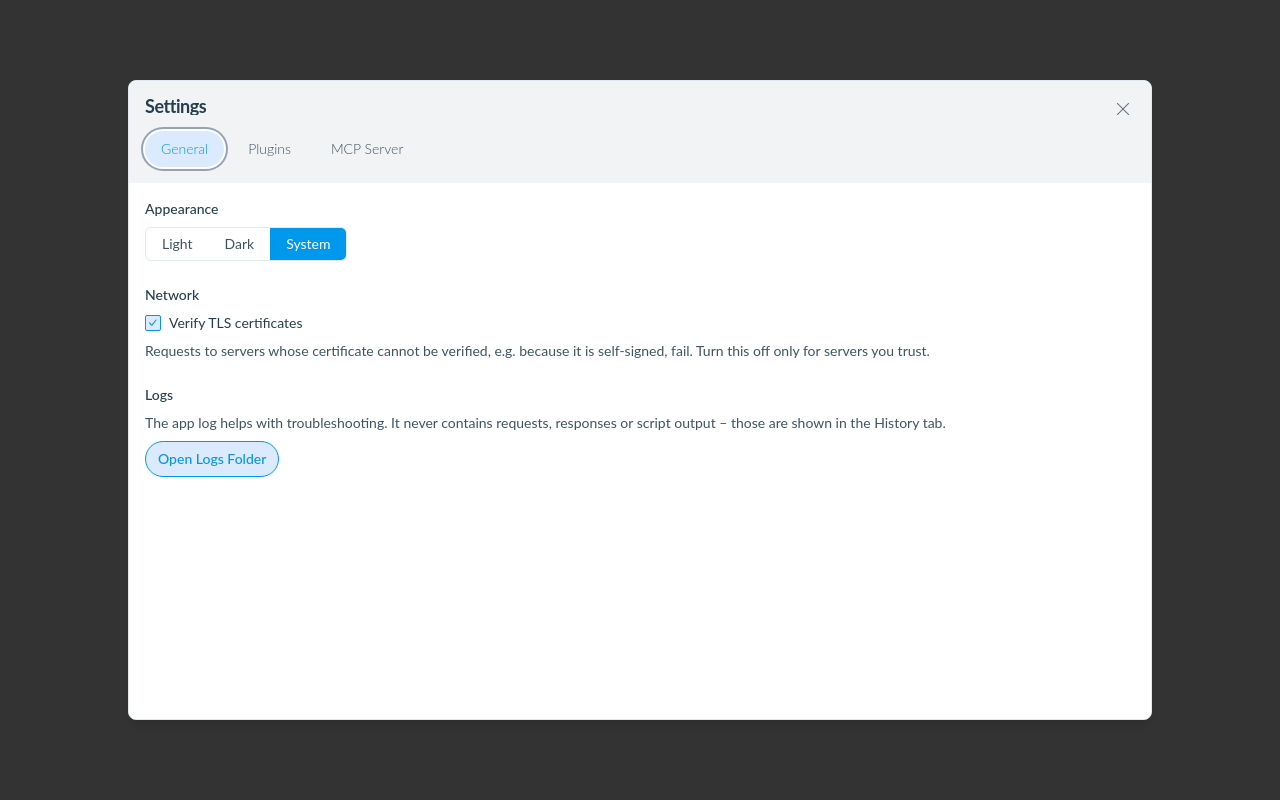
Scenario: AppSettingsModal › shows the plugins on their own tab
The image size is (1280, 800).
What coordinates should you click on to do the following:
click the tab "Plugins"
I would click on:
 (270, 149)
Its box is [232,131,307,167].
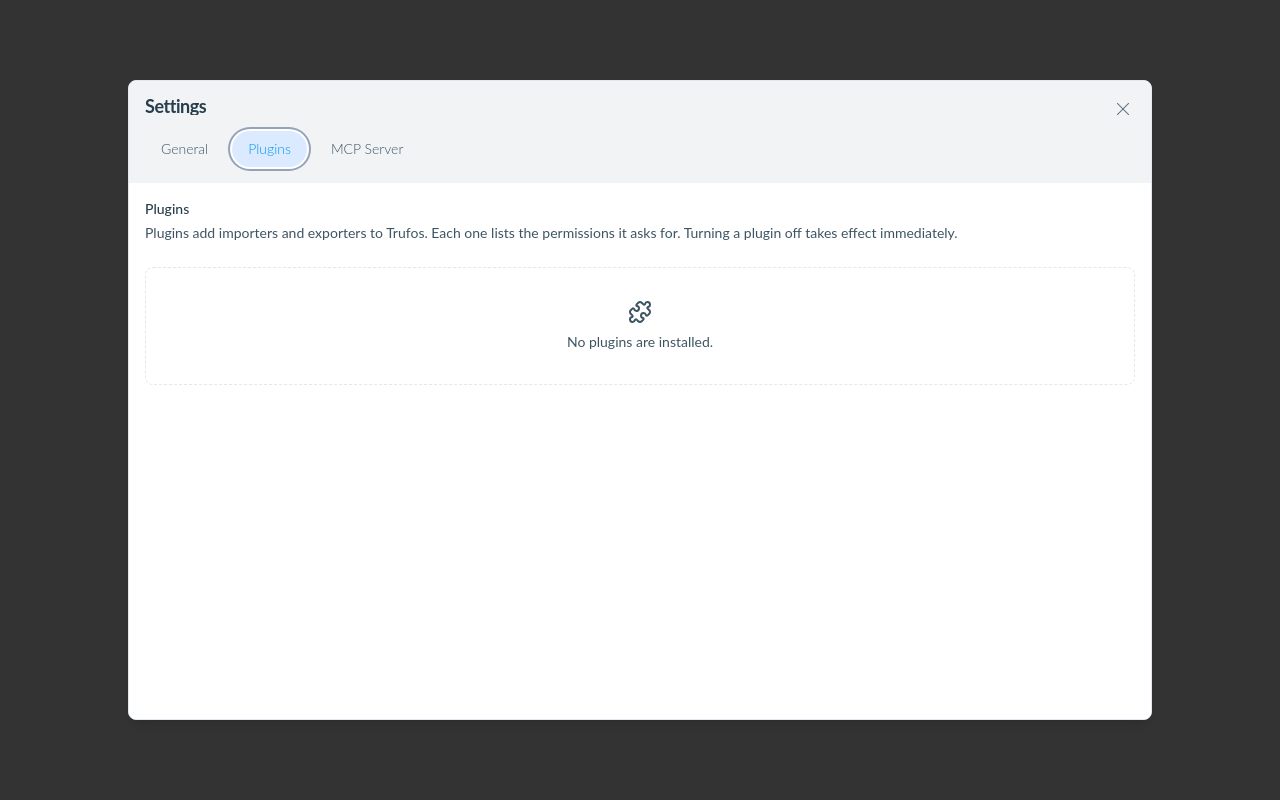
Expected: the text "No plugins are installed." is shown, [145,267,1135,385]
